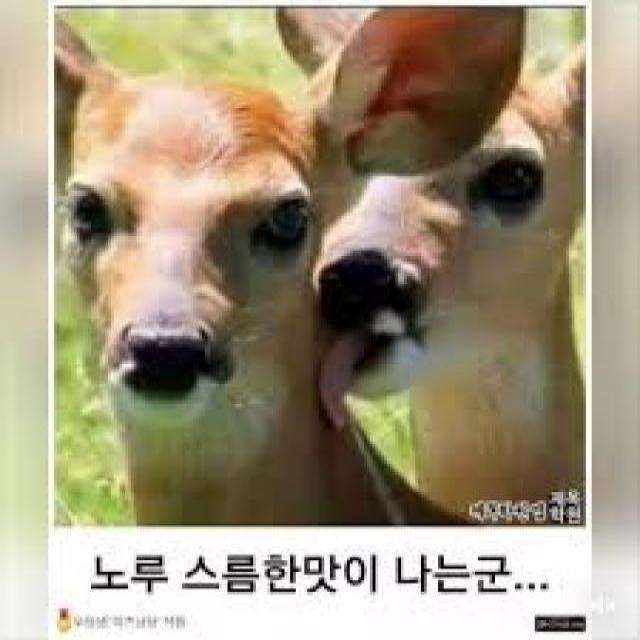deer: (53, 10, 524, 477)
